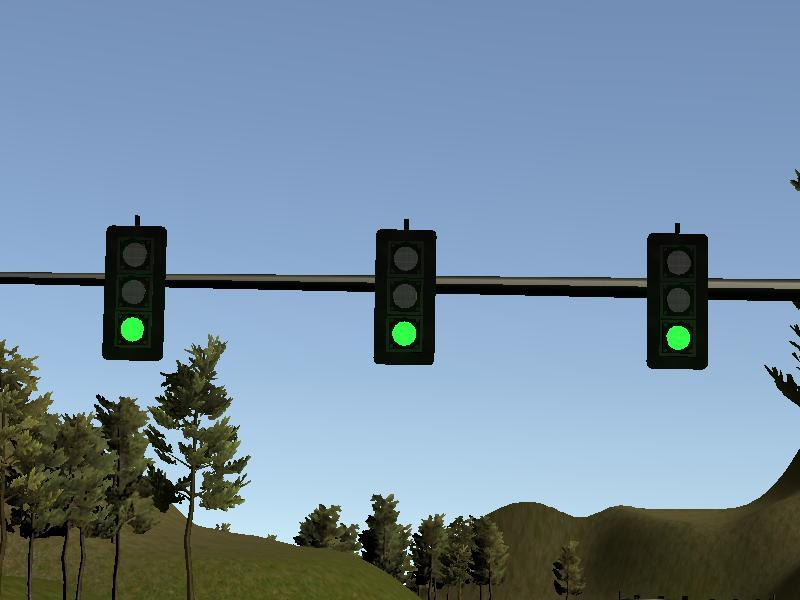Green: (376, 228, 437, 366), (104, 224, 165, 359), (648, 233, 708, 368)
